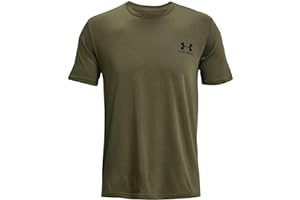design: (177, 39, 194, 56)
